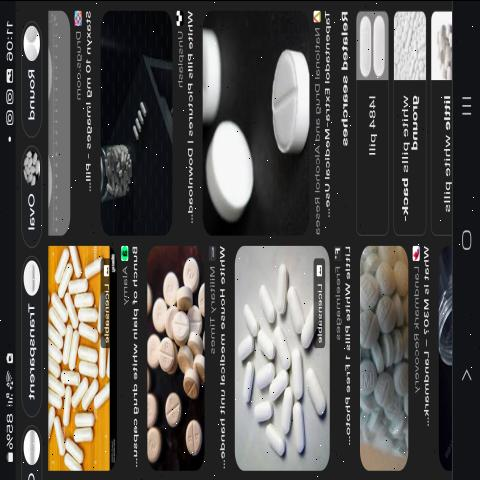Pill: (257, 29, 315, 184), (202, 116, 256, 230), (298, 360, 330, 429), (159, 371, 183, 437), (264, 416, 290, 468), (238, 356, 260, 414), (270, 260, 290, 318), (184, 411, 202, 469)
